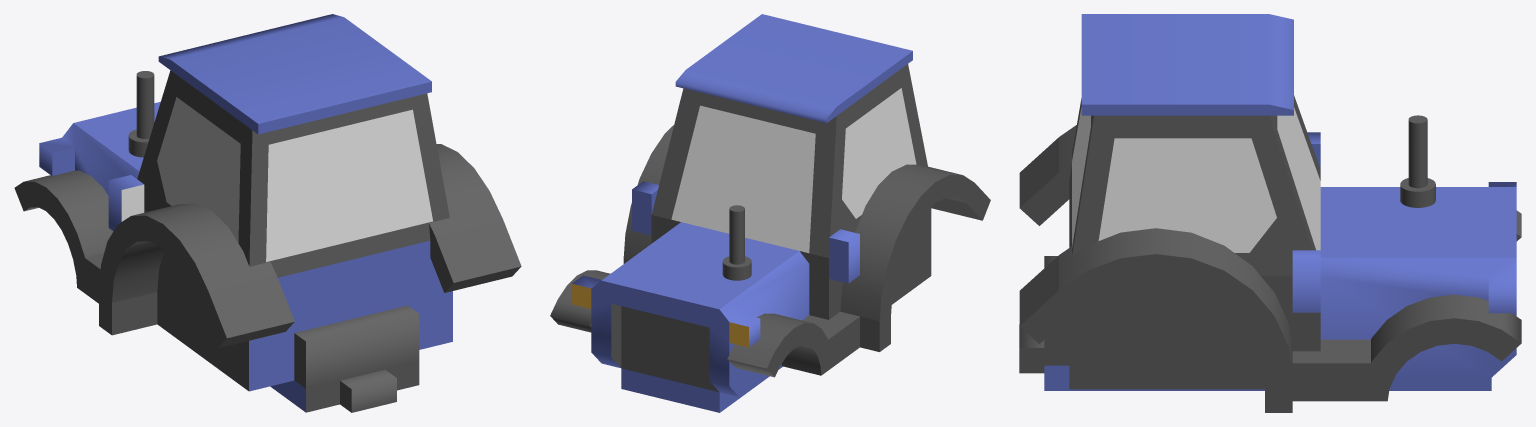
Rendered from tractor.glb.
The picture shows the model from 3 angles, left to right: view 1: azimuth 30°, elevation 25°; view 2: azimuth 150°, elevation 25°; view 3: azimuth 270°, elevation 25°; orthographic projection. The views are drawn at different scales.
Visible parts, largest first — view 1: body, skirts; view 2: body, skirts; view 3: body, skirts.
Boxes of the visible parts, x1=… form: body: x1=39, y1=14, x2=452, y2=412; skirts: x1=14, y1=144, x2=521, y2=348; body: x1=571, y1=14, x2=931, y2=412; skirts: x1=550, y1=125, x2=990, y2=377; body: x1=1019, y1=14, x2=1516, y2=390; skirts: x1=1019, y1=125, x2=1521, y2=412.
Size of the model in its own units: 1.46 by 1.34 by 2.02.
